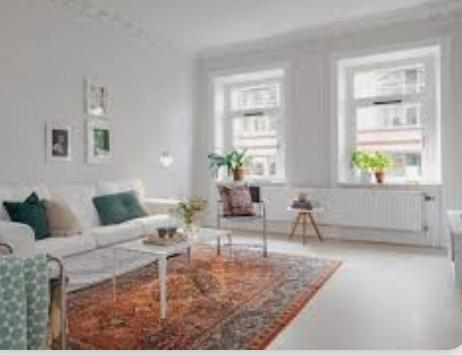carpet: (68, 245, 339, 349)
